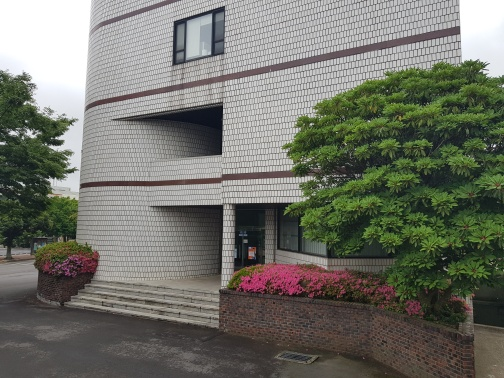Foreign Language Institute: (61, 6, 434, 349), (133, 179, 282, 333)
